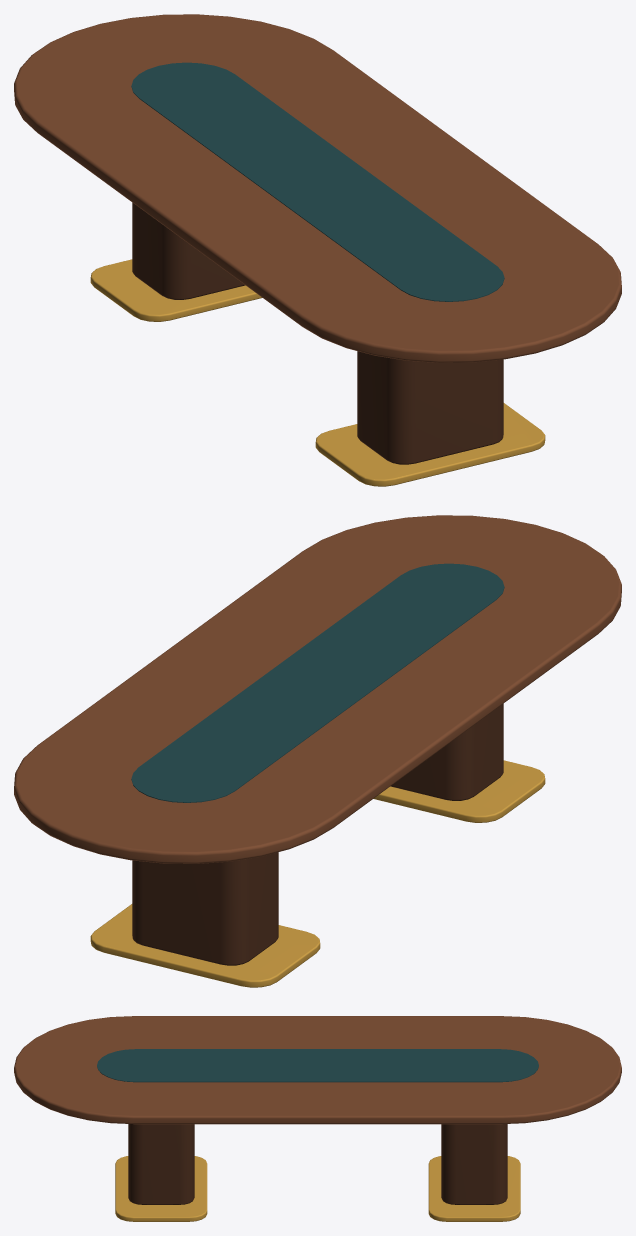
File: RmMeetingTable.fbx
3 views of the same model, one above another, from view 1: azimuth 30°, elevation 25°; view 2: azimuth 150°, elevation 25°; view 3: azimuth 270°, elevation 25° (orthographic). The views are drawn at different scales.
Parts seen in each view (by area): view 1: RmMeetingTableBody; view 2: RmMeetingTableBody; view 3: RmMeetingTableBody.
Part boxes in pixels (x1,y1,x2,y2): RmMeetingTableBody: (14,14,621,486); RmMeetingTableBody: (14,515,621,987); RmMeetingTableBody: (14,1016,621,1221).
Bounding box in the file's own units: 1.3 × 0.753 × 3.3.
